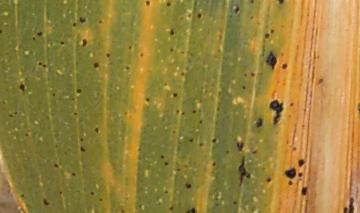tarspot: (268, 98, 285, 127), (237, 154, 251, 186), (265, 50, 278, 72), (283, 168, 297, 180), (253, 115, 264, 130), (235, 140, 245, 152), (348, 196, 355, 213), (300, 185, 309, 196), (232, 4, 241, 15), (297, 158, 306, 168), (183, 180, 192, 190), (78, 15, 87, 25), (41, 197, 50, 207), (262, 31, 271, 40), (316, 77, 325, 86), (18, 82, 26, 92), (36, 61, 46, 69), (81, 37, 87, 50), (186, 10, 193, 21), (195, 12, 203, 21), (280, 62, 288, 71), (92, 61, 100, 70), (185, 207, 196, 213), (286, 179, 294, 187), (168, 28, 176, 36), (78, 145, 86, 153), (210, 137, 218, 145), (171, 91, 179, 99), (290, 145, 298, 153), (250, 148, 258, 156), (52, 162, 61, 169), (96, 18, 105, 25), (173, 166, 182, 173), (75, 87, 82, 95), (265, 176, 272, 184), (268, 28, 276, 35), (104, 51, 111, 59), (89, 190, 96, 198), (249, 71, 256, 79), (240, 84, 247, 92), (124, 64, 131, 72), (187, 136, 194, 144), (174, 107, 181, 115), (287, 101, 295, 108), (162, 187, 169, 195), (223, 148, 230, 156), (58, 40, 67, 46), (92, 125, 98, 134), (144, 1, 151, 8), (231, 199, 238, 206), (36, 30, 43, 37), (70, 171, 77, 178), (50, 91, 57, 98), (197, 141, 204, 148), (297, 171, 303, 179), (71, 111, 79, 117), (190, 108, 196, 116), (18, 193, 26, 199), (118, 207, 126, 213), (241, 71, 247, 79), (357, 101, 360, 116), (165, 1, 172, 7), (342, 206, 348, 213), (144, 96, 150, 103), (71, 21, 77, 28), (138, 51, 144, 58), (127, 44, 133, 51), (168, 46, 174, 53), (179, 71, 186, 77), (211, 161, 217, 168), (78, 136, 84, 143), (167, 205, 174, 211), (22, 131, 29, 137), (12, 110, 19, 116), (57, 190, 64, 196), (97, 196, 104, 202), (248, 14, 254, 21), (276, 1, 286, 5), (198, 117, 203, 125), (163, 161, 169, 167), (159, 153, 165, 159), (180, 110, 186, 116), (170, 129, 176, 135), (7, 113, 13, 119), (1, 99, 7, 105), (31, 35, 36, 42), (162, 81, 169, 86), (300, 122, 305, 129), (249, 1, 255, 5), (1, 27, 3, 35)
